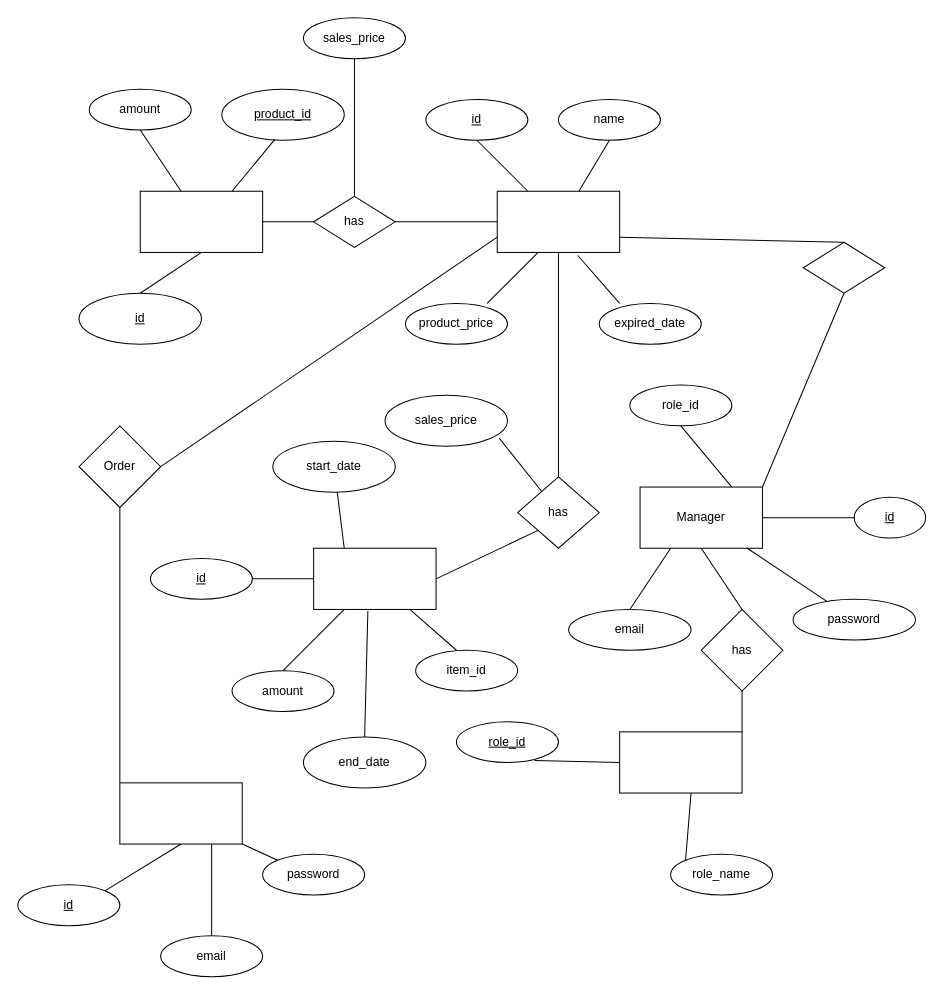
Some shapes in this 944 by 995 pixel diagram are drawn without their labels. The box of each missing label's shape, as (x1, y1, x2, y2) in pixels:
adds: (802, 241, 885, 293)
Customer: (119, 782, 242, 844)
Product: (496, 190, 620, 252)
Promotion: (313, 547, 436, 609)
Role: (619, 731, 742, 793)
Tax: (139, 190, 263, 252)
